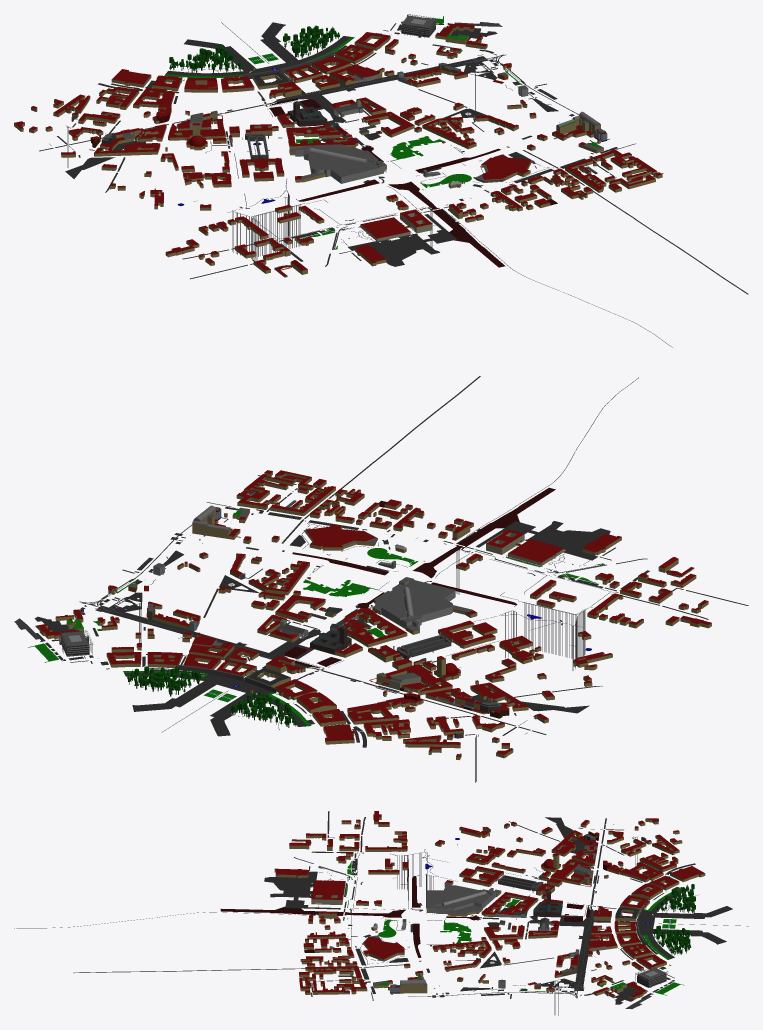
The picture shows the model from 3 angles, top to bottom: view 1: azimuth 30°, elevation 25°; view 2: azimuth 150°, elevation 25°; view 3: azimuth 270°, elevation 25°; orthographic projection. The views are drawn at different scales.
Parts seen in each view (by area): view 1: Building Ettlinger Tor, RoadArea Schlossplatz, RoadArea Festplatz, object 785, Building Badisches Staatstheater, SurfaceArea1277, Forest731, Forest730, RoadArea745, Bridge524, Building Stadthalle, Building Rathaus (+1 smaller); view 2: Building Ettlinger Tor, RoadArea Schlossplatz, RoadArea Festplatz, Bridge524, object 785, Building Badisches Staatstheater, SurfaceArea1277, Forest730, Forest731, Building Stadthalle, RoadArea745, object 1374 (+1 smaller); view 3: Building Ettlinger Tor, RoadArea Schlossplatz, RoadArea Festplatz, object 785, Building Badisches Staatstheater, Forest730, SurfaceArea1277, Forest731, RoadArea745, object 1374, Building Rathaus, Building Stadthalle (+3 smaller).
Part boxes in pixels (x1,y1,x2,y2): Building Ettlinger Tor: (289, 144, 386, 183); RoadArea Schlossplatz: (165, 22, 350, 78); RoadArea Festplatz: (348, 214, 457, 266); object 785: (184, 56, 351, 92); Building Badisches Staatstheater: (473, 154, 535, 182); SurfaceArea1277: (388, 181, 505, 267); Forest731: (169, 45, 241, 72); Forest730: (283, 25, 339, 58); RoadArea745: (297, 56, 488, 99); Bridge524: (251, 204, 300, 258); Building Stadthalle: (360, 217, 410, 241); Building Rathaus: (287, 101, 327, 126); Building Ettlinger Tor: (372, 577, 472, 634); RoadArea Schlossplatz: (124, 672, 306, 736); RoadArea Festplatz: (476, 521, 610, 560); Bridge524: (524, 603, 576, 658); object 785: (183, 654, 336, 713); Building Badisches Staatstheater: (303, 524, 377, 550); SurfaceArea1277: (412, 487, 555, 578); Forest730: (127, 666, 200, 696); Forest731: (230, 690, 297, 727); Building Stadthalle: (508, 539, 564, 565); RoadArea745: (95, 605, 288, 660); object 1374: (438, 620, 495, 648); Building Ettlinger Tor: (426, 882, 501, 916); RoadArea Schlossplatz: (636, 888, 732, 958); RoadArea Festplatz: (264, 871, 340, 909); object 785: (614, 883, 662, 947); Building Badisches Staatstheater: (362, 935, 404, 961); Forest730: (653, 925, 691, 955); SurfaceArea1277: (220, 906, 405, 917); Forest731: (656, 884, 695, 913); RoadArea745: (574, 917, 592, 990); object 1374: (462, 866, 503, 886); Building Rathaus: (533, 890, 562, 916); Building Stadthalle: (312, 880, 345, 896).
Size of the model in its own units: 1242 by 151 by 1947.
